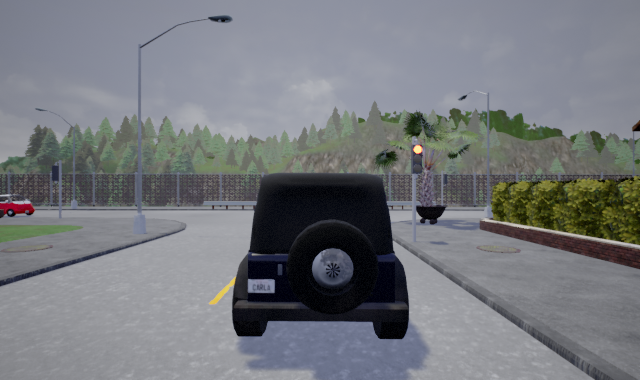vehicle: (230, 170, 409, 339), (1, 194, 37, 217)
